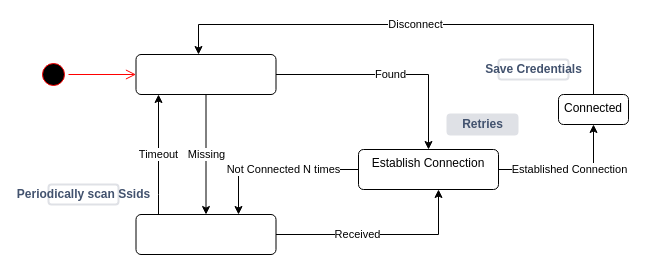
Image size: 646x272. Some labels were removed from this diagram. Each missing label, with the box of its shape:
Retrieve Credentials: (135, 54, 276, 94)
Wait for Credentials: (135, 214, 276, 254)
